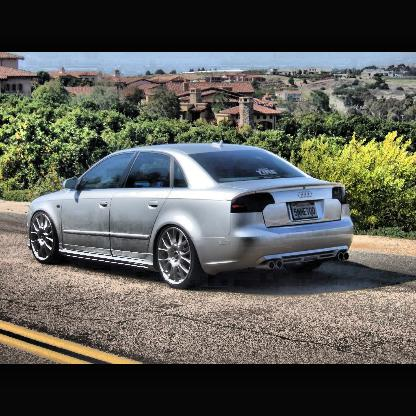Audi S4 Sedan 2007: (25, 144, 354, 286)
